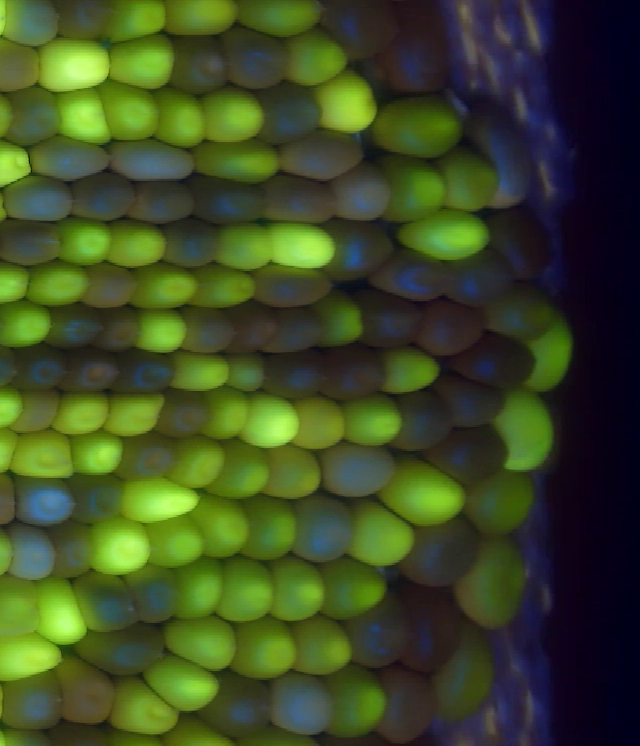fluorescent: (455, 530, 527, 630), (377, 454, 470, 524), (371, 94, 464, 154), (321, 663, 389, 741), (438, 625, 493, 721), (492, 388, 554, 472), (139, 652, 223, 710), (379, 152, 447, 221), (465, 471, 536, 535), (346, 502, 417, 566), (107, 675, 183, 734), (92, 77, 162, 141), (161, 617, 242, 671), (395, 214, 495, 257), (319, 558, 389, 619), (436, 145, 500, 211), (200, 83, 268, 144), (39, 36, 112, 92), (231, 618, 299, 678), (37, 576, 95, 646), (190, 139, 281, 183), (219, 553, 275, 624), (265, 559, 328, 622), (211, 438, 272, 502), (310, 75, 379, 131), (109, 33, 172, 94), (338, 393, 406, 448), (242, 497, 301, 559), (281, 31, 350, 84), (268, 218, 337, 271), (289, 615, 352, 673), (153, 83, 209, 148), (6, 431, 80, 480), (119, 476, 205, 518), (127, 262, 202, 310), (0, 628, 63, 684), (103, 387, 168, 441), (261, 444, 322, 501), (89, 519, 151, 575), (241, 389, 299, 448), (289, 392, 349, 449), (529, 314, 572, 393), (196, 498, 248, 562), (58, 87, 115, 145), (380, 345, 446, 395), (188, 263, 259, 308), (236, 1, 326, 36), (212, 221, 275, 271), (55, 216, 116, 267), (107, 217, 169, 267), (168, 434, 223, 490), (171, 562, 225, 619), (312, 293, 367, 348), (146, 515, 202, 569), (202, 385, 252, 443), (27, 261, 91, 306), (53, 389, 113, 435), (159, 1, 237, 36), (106, 1, 167, 45), (134, 308, 190, 355), (168, 352, 233, 392), (0, 303, 58, 347), (68, 432, 126, 475), (0, 576, 40, 637), (158, 716, 237, 746), (0, 140, 35, 186), (0, 264, 31, 303), (243, 729, 311, 746), (107, 729, 161, 746)
nonfluorescent: (402, 515, 481, 590), (398, 584, 461, 674), (479, 106, 532, 209), (346, 589, 410, 669), (73, 623, 167, 677), (319, 215, 394, 281), (318, 1, 400, 61), (375, 663, 436, 741), (428, 424, 508, 482), (276, 127, 365, 179), (50, 654, 115, 725), (492, 205, 554, 279), (452, 338, 539, 390), (203, 671, 270, 738), (221, 25, 290, 90), (385, 28, 450, 96), (193, 171, 273, 226), (255, 83, 326, 144), (431, 372, 505, 430), (108, 134, 199, 181), (353, 288, 422, 349), (319, 440, 394, 496), (289, 493, 349, 562), (447, 247, 511, 311), (321, 342, 387, 404), (261, 175, 341, 226), (70, 573, 139, 631), (370, 248, 444, 302), (389, 390, 451, 454), (417, 298, 485, 356), (485, 282, 554, 339), (0, 669, 63, 730), (66, 168, 138, 221), (0, 174, 75, 223), (331, 166, 396, 222), (249, 265, 337, 306), (129, 176, 197, 229), (27, 134, 112, 176), (121, 566, 184, 622), (170, 37, 230, 94), (5, 521, 62, 580), (259, 347, 324, 398), (14, 471, 73, 527), (159, 214, 220, 266), (10, 84, 60, 147), (154, 387, 213, 440), (0, 219, 67, 265), (180, 305, 238, 354), (81, 263, 142, 309), (65, 472, 122, 521), (118, 433, 175, 482), (44, 518, 92, 576), (44, 302, 104, 348), (14, 344, 70, 392), (65, 349, 122, 396), (2, 1, 60, 47), (270, 305, 325, 353), (117, 351, 178, 394), (10, 388, 59, 436), (225, 305, 274, 352), (0, 40, 43, 92), (58, 1, 112, 39), (97, 309, 141, 349), (49, 724, 105, 746), (321, 732, 375, 746)
